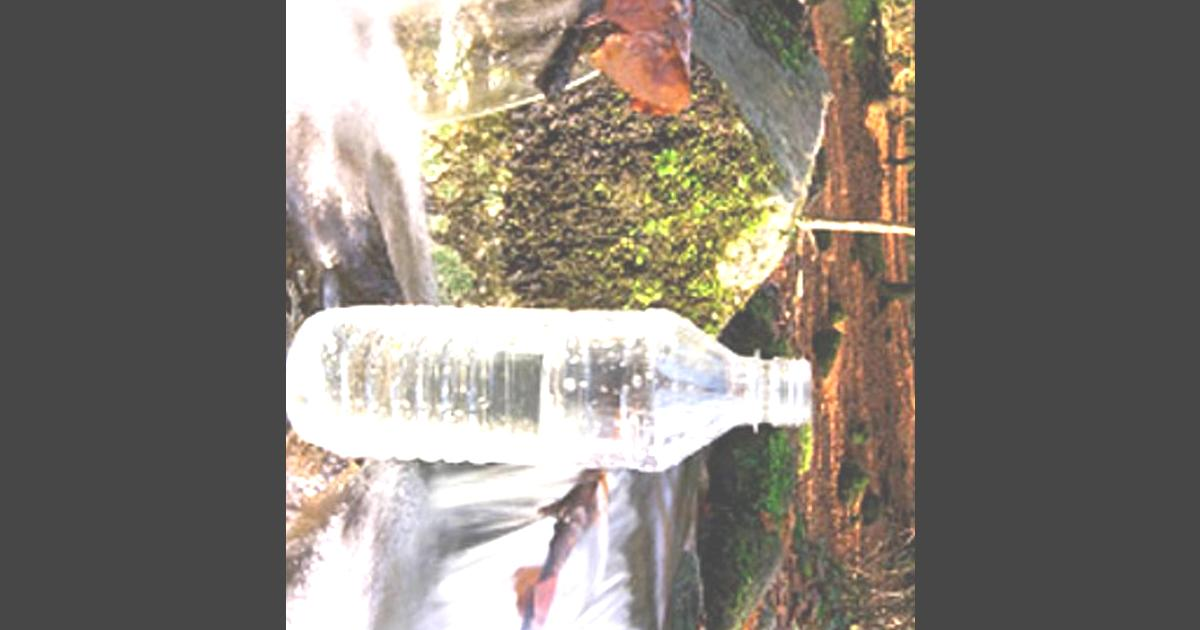bottle: (285, 268, 832, 483)
